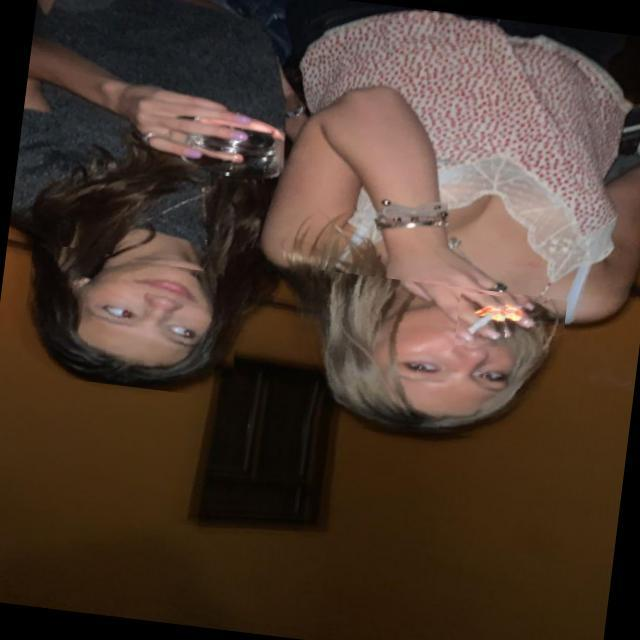cigarette: (454, 292, 510, 352)
